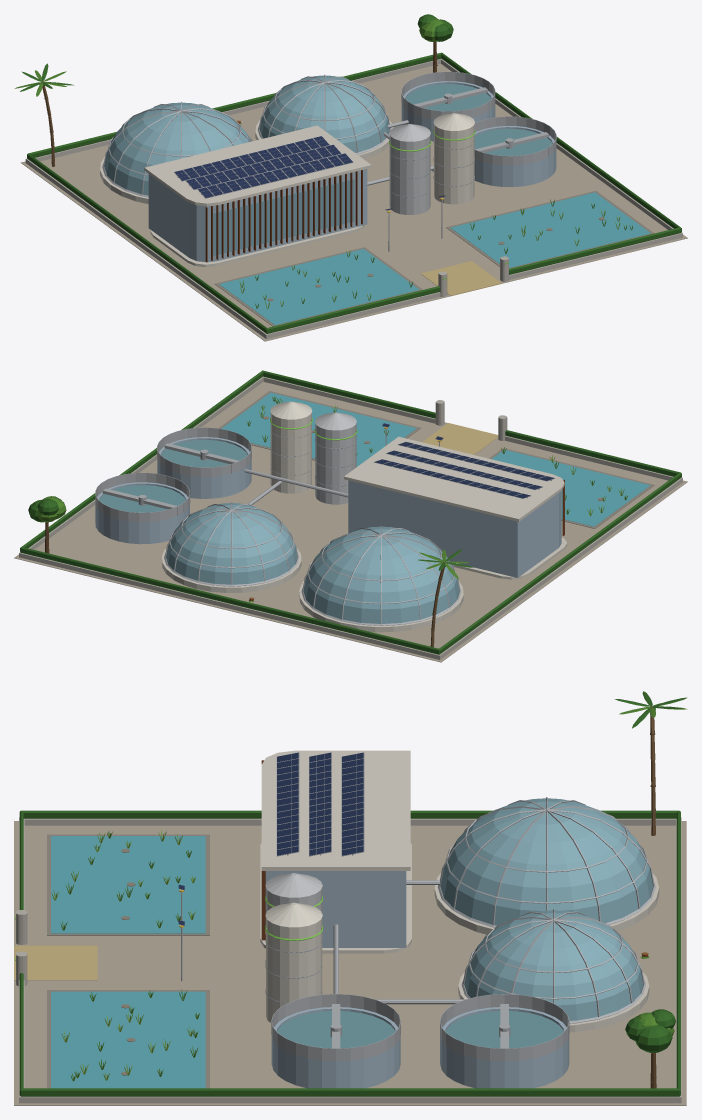
Rendered from water_works.glb.
3 views of the same model, one above another, from view 1: azimuth 30°, elevation 25°; view 2: azimuth 150°, elevation 25°; view 3: azimuth 270°, elevation 25° (orthographic). The views are drawn at different scales.
Visible parts, largest first — view 1: body; view 2: body; view 3: body.
Boxes of the visible parts, x1,y1,x2,y2 form: body: [14, 14, 687, 341]; body: [14, 370, 687, 662]; body: [14, 691, 687, 1105].
Size of the model in its own units: 49.83 by 10.52 by 48.
